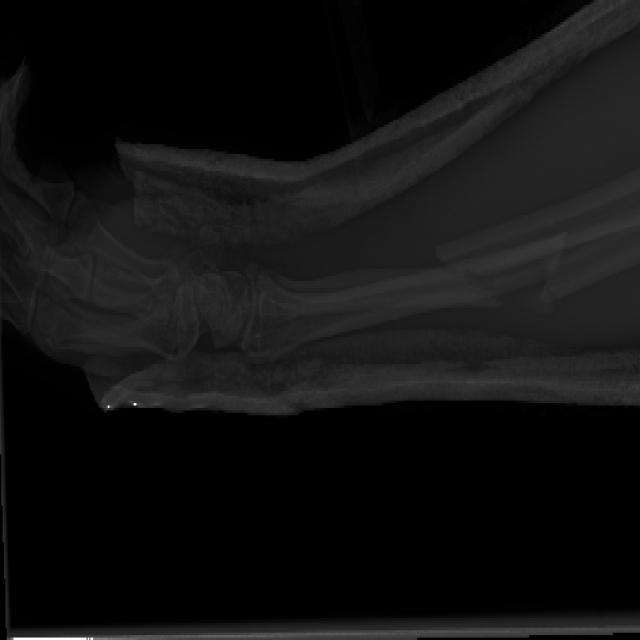forearm fracture: (409, 202, 527, 356), (515, 212, 593, 329)
